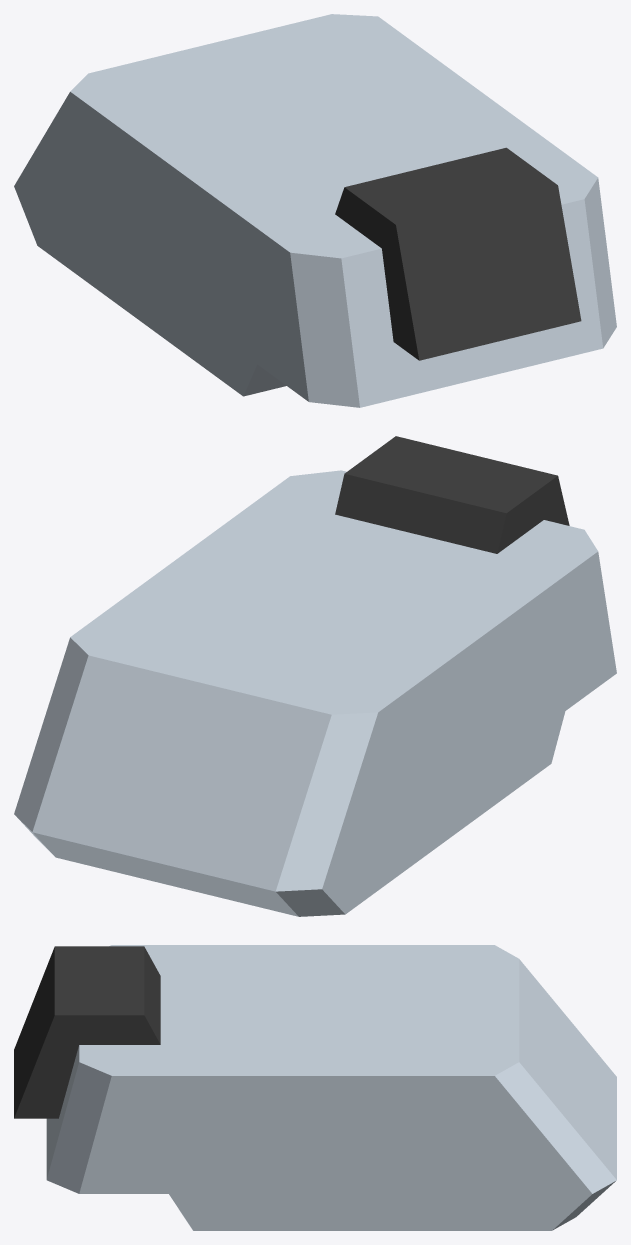
Rendered from TankHead.obj.
3 renders of one model, top to bottom at view 1: azimuth 30°, elevation 25°; view 2: azimuth 150°, elevation 25°; view 3: azimuth 270°, elevation 25°, orthographic. The views are drawn at different scales.
Visible parts, largest first — view 1: head; view 2: head; view 3: head.
Part boxes in pixels (<box>): head: <box>14,14,616,407</box>; head: <box>14,436,616,916</box>; head: <box>14,945,616,1230</box>.
Size of the model in its own units: 0.3766 by 0.2478 by 0.7334.
